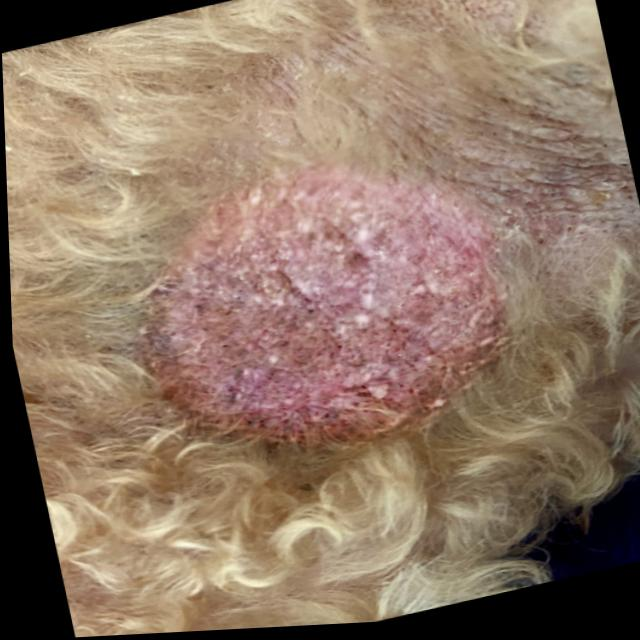ringworm: (56, 103, 537, 528)
